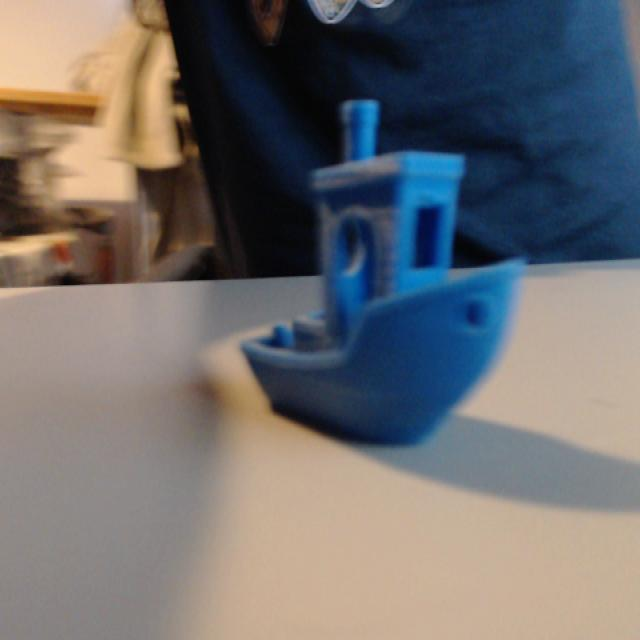benchy: (238, 94, 528, 450)
